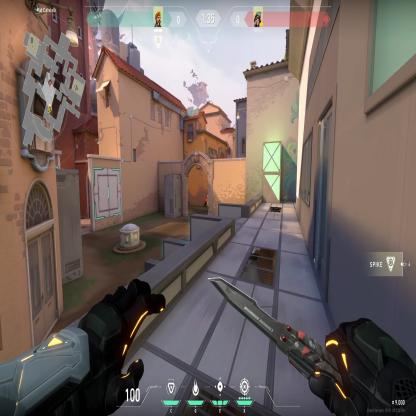enemy: (205, 193, 208, 214)
